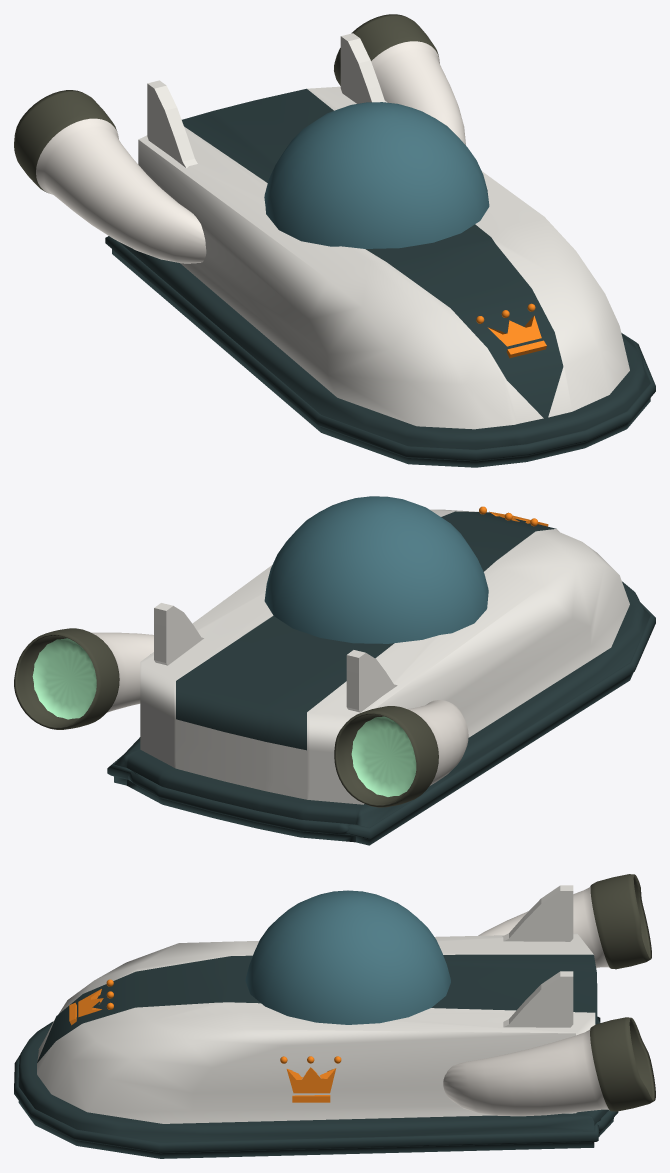
The model's file is Low_Poly_Spaceship.glb.
The picture shows the model from 3 angles, top to bottom: view 1: azimuth 30°, elevation 25°; view 2: azimuth 150°, elevation 25°; view 3: azimuth 270°, elevation 25°; orthographic projection. The views are drawn at different scales.
Parts seen in each view (by area): view 1: pCube1_blinn1_0, pSphere1_blinn2_0, pCube1_blinn4_0, pCube1_blinn6_0, pCylinder1_lambert2_0, pCube1_blinn3_0, pCylinder2_lambert2_0, pCylinder1_lambert3_0, pCube2_blinn1_0, pCylinder2_lambert3_0, pCube3_blinn1_0, pSphere5_blinn7_0; view 2: pCube1_blinn1_0, pSphere1_blinn2_0, pCube1_blinn4_0, pCube1_blinn6_0, pCube1_blinn3_0, pCylinder2_lambert3_0, pCylinder1_lambert3_0, pCylinder1_lambert4_0, pCylinder2_lambert4_0, pCylinder1_lambert2_0, pCylinder2_lambert2_0, pCube2_blinn1_0 (+1 smaller); view 3: pCube1_blinn1_0, pSphere1_blinn2_0, pCube1_blinn6_0, pCube1_blinn4_0, pCylinder2_lambert2_0, pCube1_blinn3_0, pCylinder2_lambert3_0, pCylinder1_lambert3_0, pCube3_blinn1_0, pCube2_blinn1_0, pCylinder1_lambert2_0, pSphere6_blinn7_0 (+1 smaller).
Part boxes in pixels (x1=…): pCube1_blinn1_0: x1=138, y1=86, x2=629, y2=429; pSphere1_blinn2_0: x1=264, y1=102, x2=489, y2=248; pCube1_blinn4_0: x1=182, y1=88, x2=563, y2=418; pCube1_blinn6_0: x1=112, y1=239, x2=652, y2=467; pCylinder1_lambert2_0: x1=36, y1=118, x2=206, y2=263; pCube1_blinn3_0: x1=105, y1=236, x2=655, y2=461; pCylinder2_lambert2_0: x1=371, y1=41, x2=465, y2=144; pCylinder1_lambert3_0: x1=14, y1=90, x2=117, y2=192; pCube2_blinn1_0: x1=147, y1=80, x2=197, y2=167; pCylinder2_lambert3_0: x1=334, y1=14, x2=438, y2=85; pCube3_blinn1_0: x1=340, y1=33, x2=384, y2=103; pSphere5_blinn7_0: x1=476, y1=303, x2=546, y2=358; pCube1_blinn1_0: x1=140, y1=509, x2=629, y2=804; pSphere1_blinn2_0: x1=264, y1=496, x2=488, y2=643; pCube1_blinn4_0: x1=176, y1=511, x2=556, y2=750; pCube1_blinn6_0: x1=112, y1=581, x2=652, y2=845; pCube1_blinn3_0: x1=107, y1=602, x2=655, y2=839; pCylinder2_lambert3_0: x1=14, y1=628, x2=119, y2=729; pCylinder1_lambert3_0: x1=334, y1=706, x2=438, y2=807; pCylinder1_lambert4_0: x1=351, y1=716, x2=416, y2=796; pCylinder2_lambert4_0: x1=32, y1=638, x2=96, y2=719; pCylinder1_lambert2_0: x1=407, y1=700, x2=468, y2=785; pCylinder2_lambert2_0: x1=91, y1=632, x2=153, y2=712; pCube2_blinn1_0: x1=346, y1=650, x2=397, y2=712; pCube1_blinn1_0: x1=37, y1=933, x2=595, y2=1123; pSphere1_blinn2_0: x1=245, y1=890, x2=450, y2=1024; pCube1_blinn6_0: x1=16, y1=1017, x2=613, y2=1158; pCube1_blinn4_0: x1=37, y1=954, x2=597, y2=1062; pCylinder2_lambert2_0: x1=443, y1=1028, x2=609, y2=1116; pCube1_blinn3_0: x1=14, y1=1017, x2=618, y2=1153; pCylinder2_lambert3_0: x1=590, y1=1017, x2=655, y2=1111; pCylinder1_lambert3_0: x1=590, y1=874, x2=651, y2=969; pCube3_blinn1_0: x1=503, y1=971, x2=573, y2=1027; pCube2_blinn1_0: x1=502, y1=885, x2=573, y2=941; pCylinder1_lambert2_0: x1=478, y1=886, x2=609, y2=967; pSphere6_blinn7_0: x1=280, y1=1056, x2=341, y2=1102.
Bounding box in the file's own units: 9.38 × 5.03 × 14.07.
